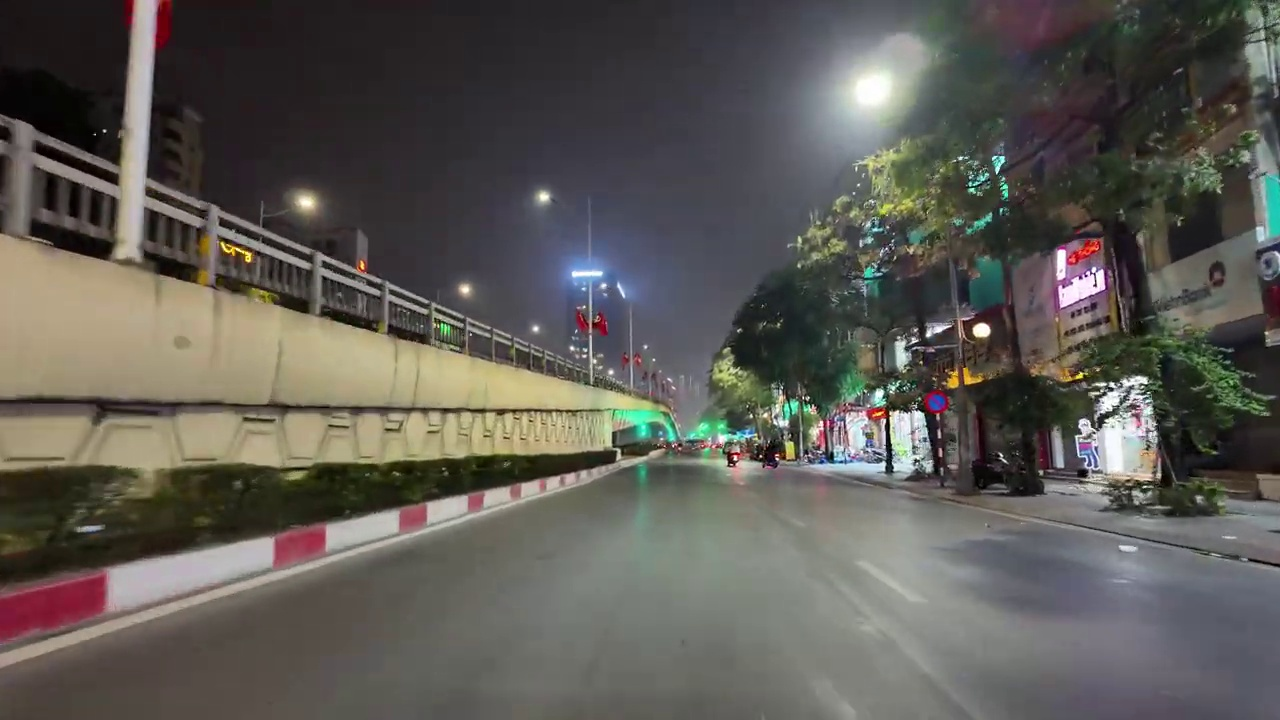acesa: (850, 68, 897, 109), (292, 189, 319, 217), (531, 186, 555, 210), (455, 281, 477, 301)
